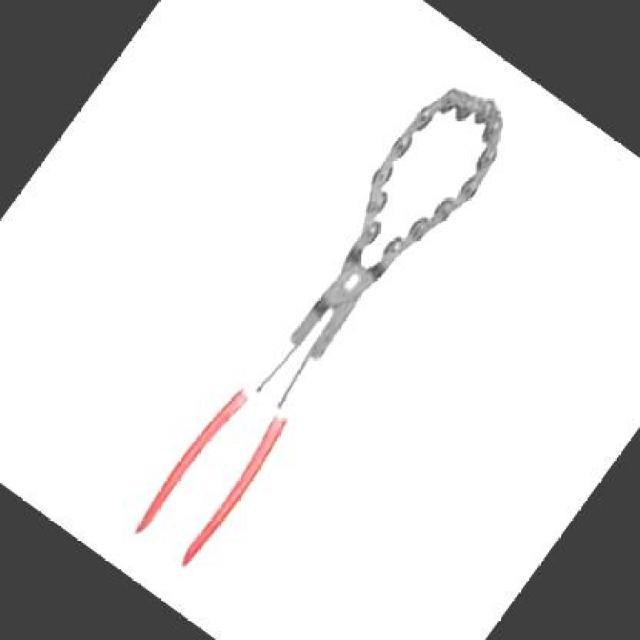pliers: (108, 202, 436, 596)
